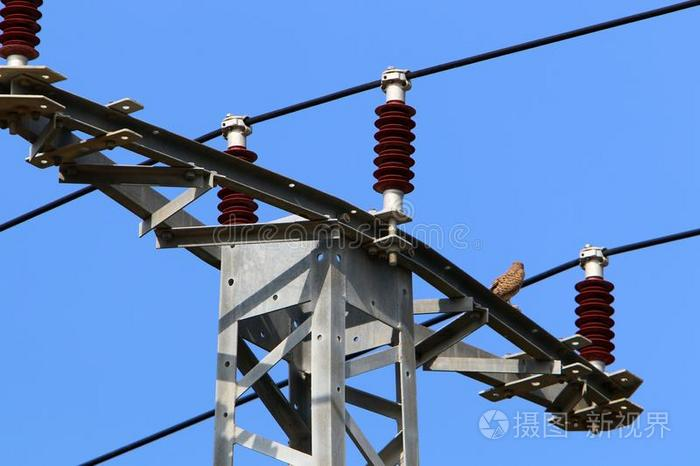insulator: (370, 97, 420, 193), (571, 277, 618, 368), (214, 144, 257, 227), (1, 2, 46, 63)
